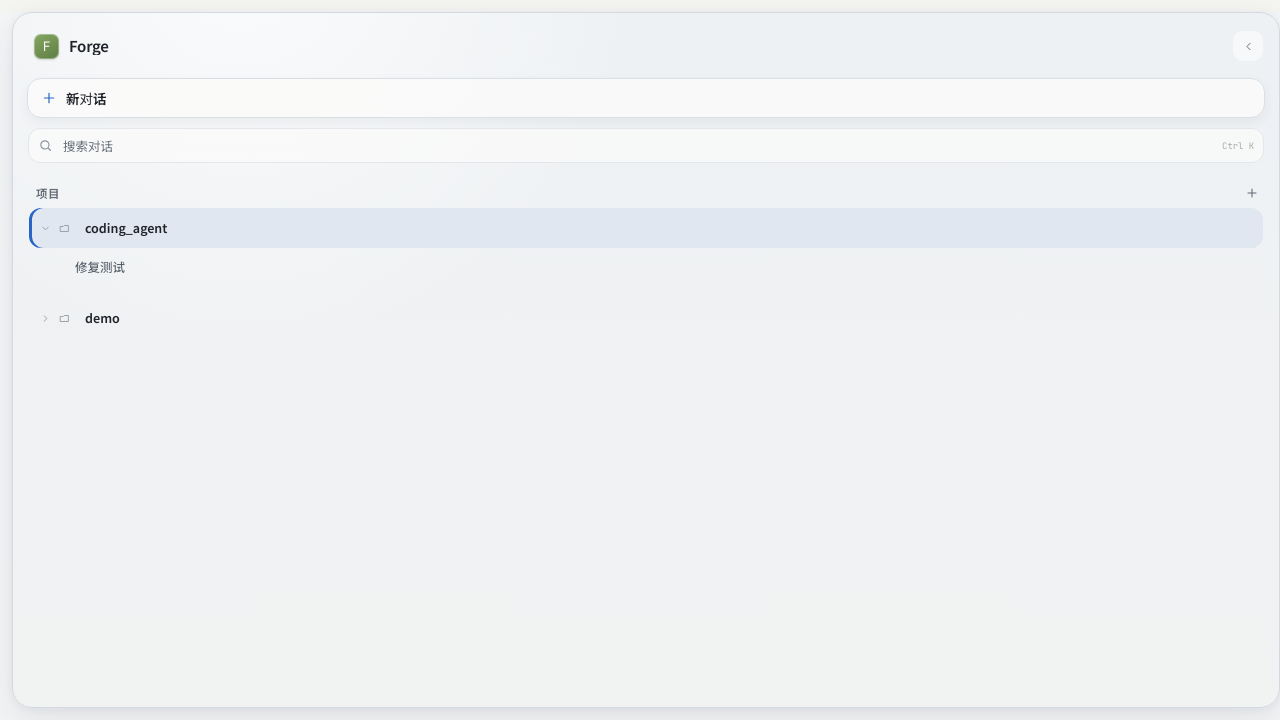
Test: uses a recognizable project remove control and exposes it from the context menu
The image size is (1280, 720).
Right-click the element "demo" at (646, 318), box [29,298,1263,338]
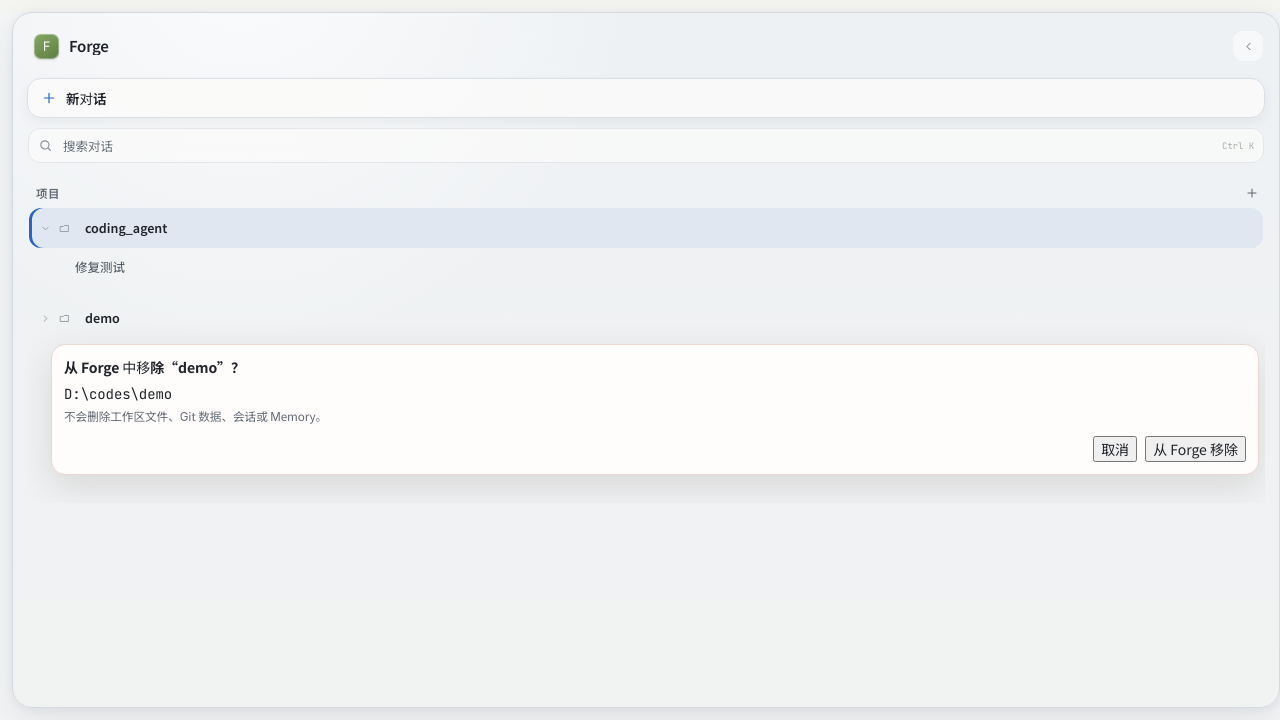
Check: the dialog named "移除项目demo" is shown, box [51,344,1259,475]
Check: the text "不会删除工作区文件、Git 数据、会话或 Memory。" is shown, box [64,409,327,423]
Click the button with aria-label "确认从 Forge 移除 demo" at (1196, 449), box [1145,436,1246,462]
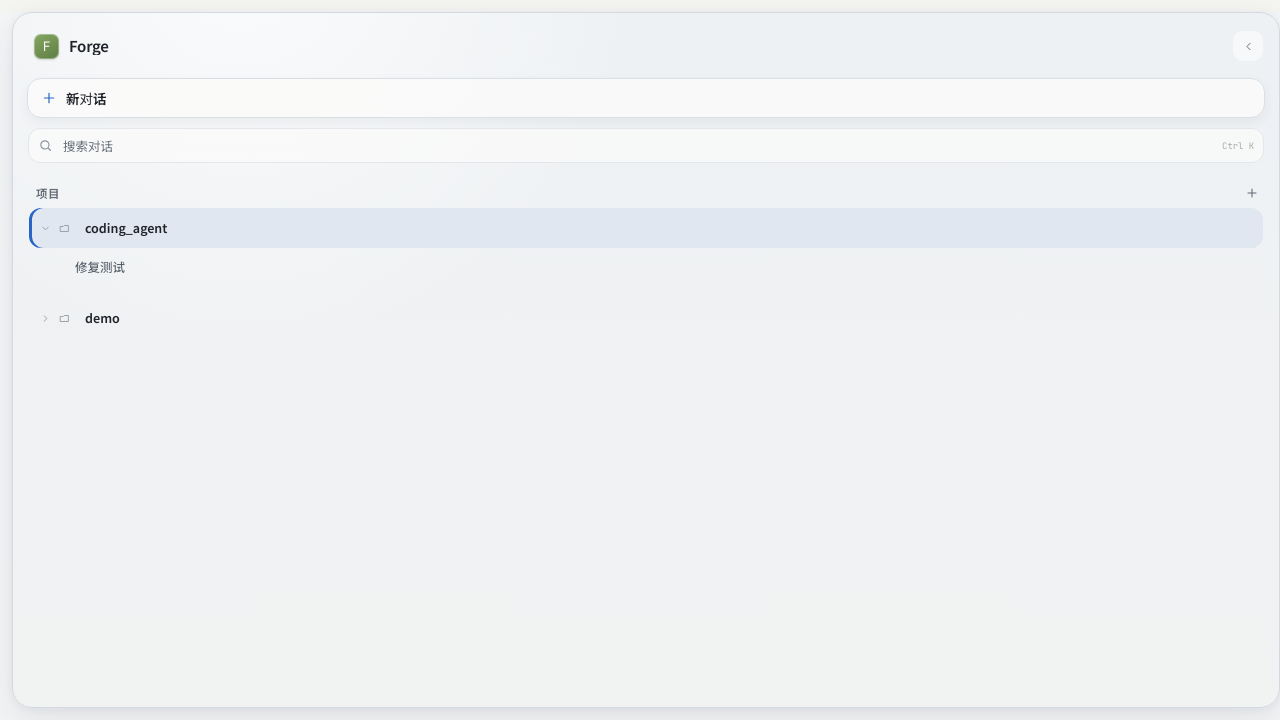
Check: the dialog is gone
